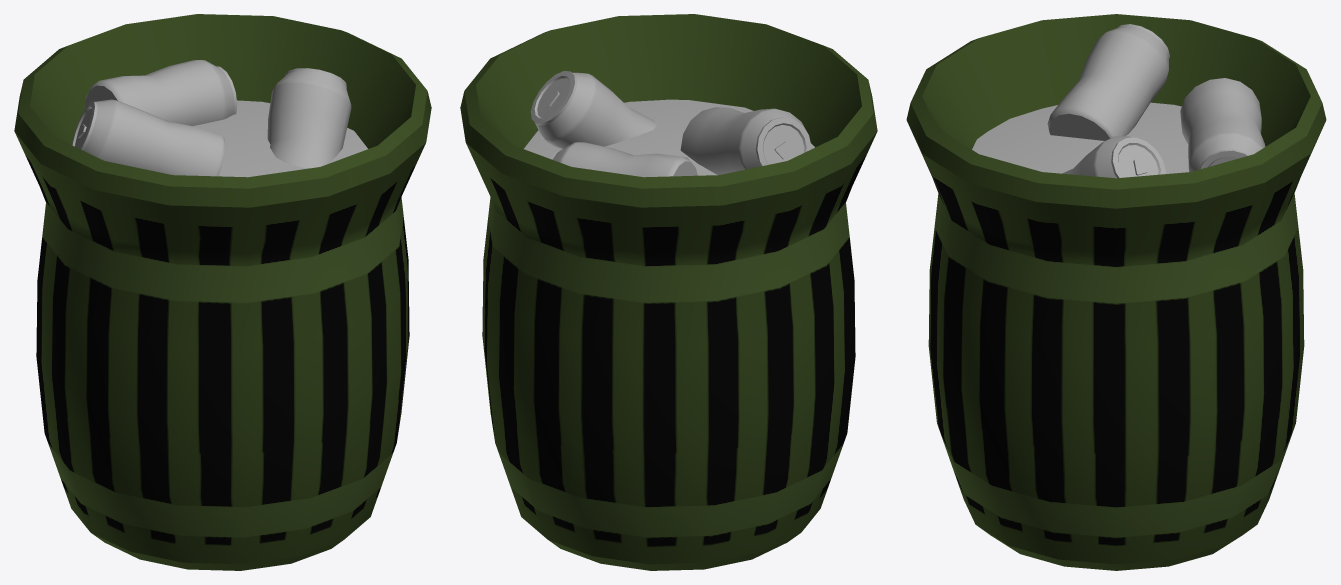
The model's file is trashCanPartial.fbx.
The picture shows the model from 3 angles, left to right: view 1: azimuth 30°, elevation 25°; view 2: azimuth 150°, elevation 25°; view 3: azimuth 270°, elevation 25°; orthographic projection.
Parts seen in each view (by area): view 1: trashCanPartial, sodaCan:sodaCanGy, sodaCanGy, sodaCanGy1; view 2: trashCanPartial, sodaCan:sodaCanGy, sodaCanGy, sodaCanGy1; view 3: trashCanPartial, sodaCan:sodaCanGy, sodaCanGy1, sodaCanGy.
Boxes of the visible parts, x1,y1,x2,y2 form: trashCanPartial: [14, 14, 431, 570]; sodaCan:sodaCanGy: [71, 99, 225, 176]; sodaCanGy: [267, 68, 351, 168]; sodaCanGy1: [84, 60, 237, 125]; trashCanPartial: [460, 14, 877, 570]; sodaCan:sodaCanGy: [680, 107, 811, 174]; sodaCanGy: [530, 71, 656, 148]; sodaCanGy1: [550, 142, 697, 177]; trashCanPartial: [906, 14, 1326, 570]; sodaCan:sodaCanGy: [1047, 24, 1169, 140]; sodaCanGy1: [1180, 78, 1265, 171]; sodaCanGy: [1062, 136, 1165, 178].
Bounding box in the file's own units: 114 × 130 × 114.
